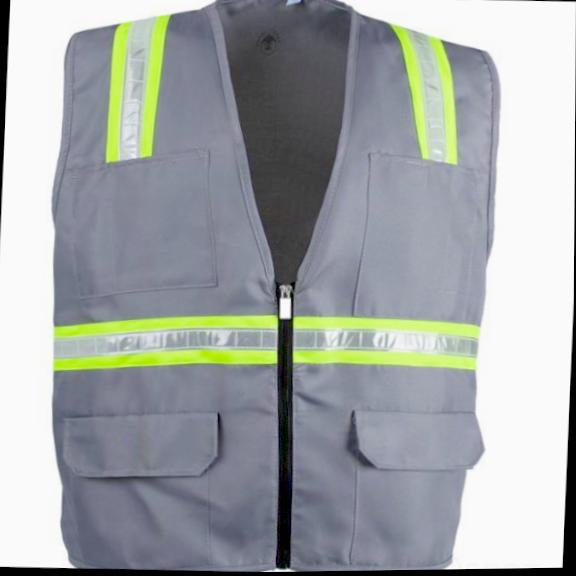safety_vest: (37, 0, 504, 575)
